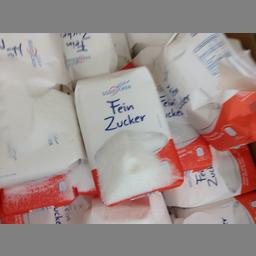sugar: (72, 65, 183, 206), (153, 32, 255, 147)
